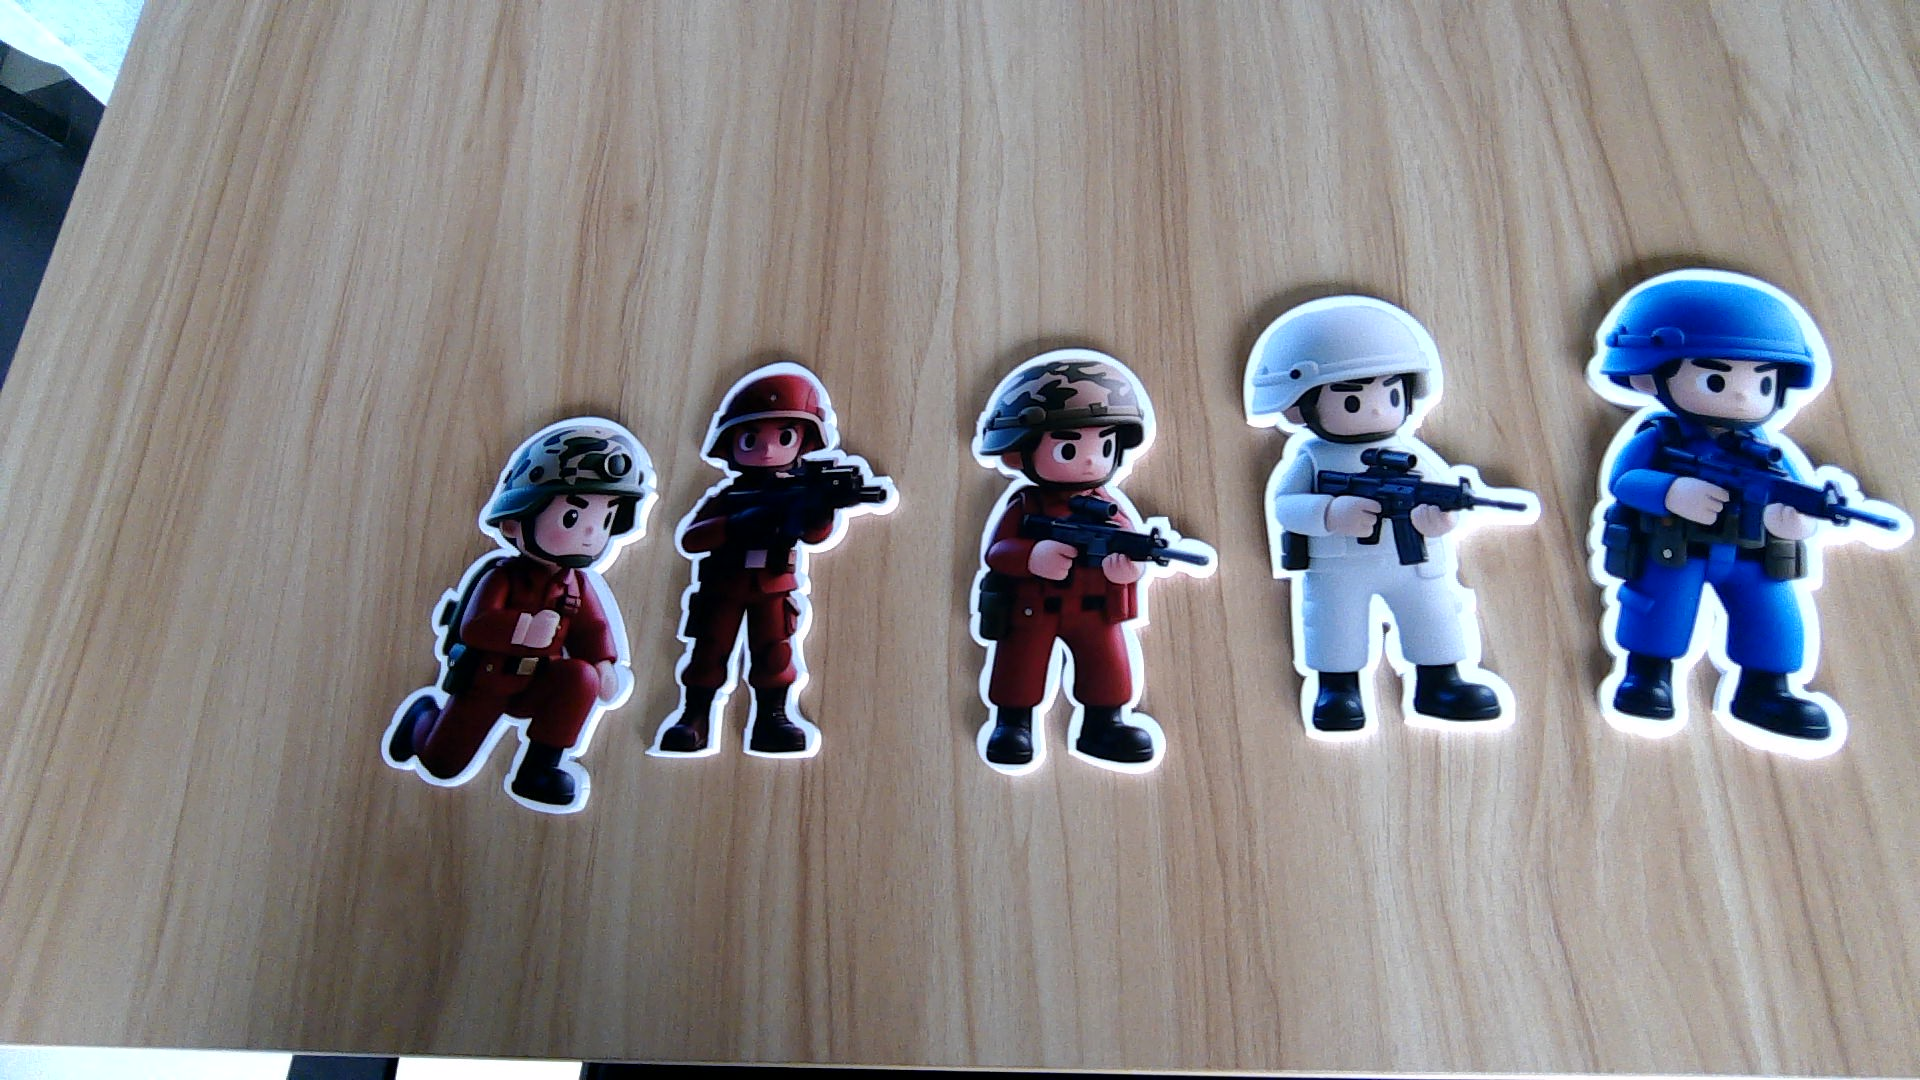人质: (1255, 444, 1538, 744)
敌人1: (965, 483, 1215, 781), (653, 471, 899, 760), (375, 564, 638, 814)
敌人2: (1580, 423, 1909, 760)
